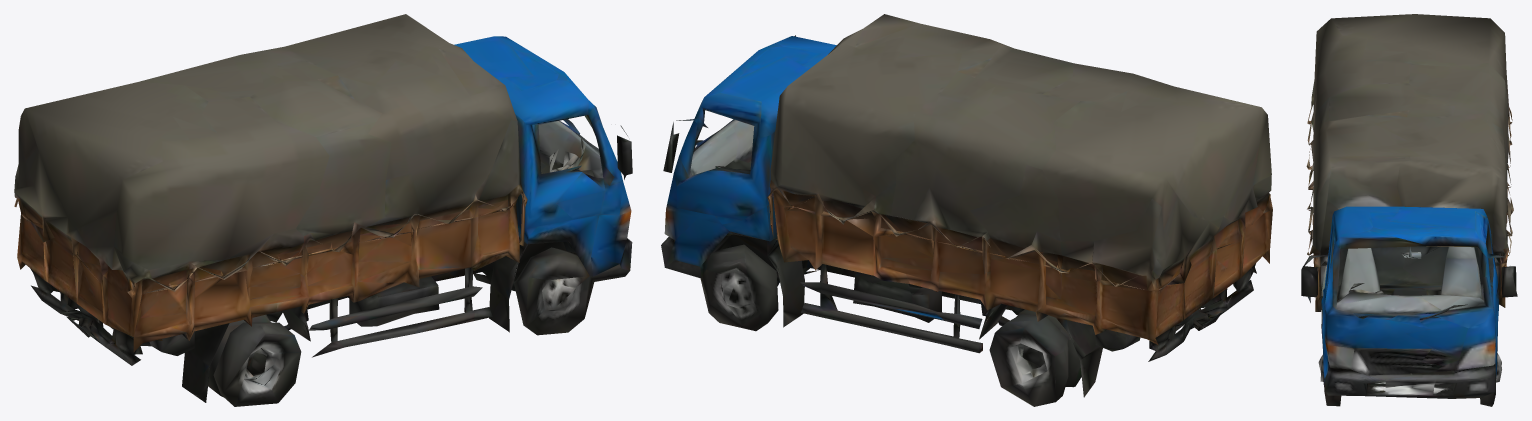
File: lorry_1.glb
3 views of the same model, side by side, from view 1: azimuth 30°, elevation 25°; view 2: azimuth 150°, elevation 25°; view 3: azimuth 270°, elevation 25° (orthographic). The views are drawn at different scales.
Parts seen in each view (by area): view 1: tripo_node_1556af09-5893-447d-a109-733878e42172; view 2: tripo_node_1556af09-5893-447d-a109-733878e42172; view 3: tripo_node_1556af09-5893-447d-a109-733878e42172.
Part boxes in pixels (x1,y1,x2,y2): tripo_node_1556af09-5893-447d-a109-733878e42172: (14, 14, 632, 406); tripo_node_1556af09-5893-447d-a109-733878e42172: (661, 14, 1272, 406); tripo_node_1556af09-5893-447d-a109-733878e42172: (1301, 14, 1517, 406).
Size of the model in its own units: 0.9988 by 0.4921 by 0.4398.
Materials: 1 (1 with a texture image).
